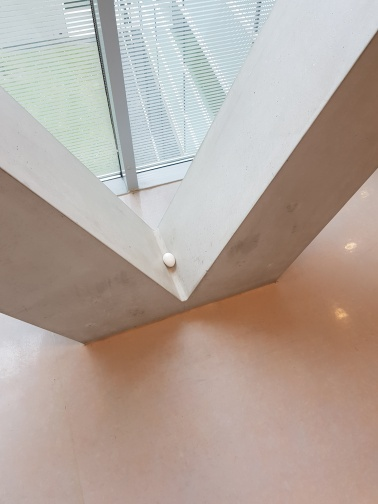egg: (161, 250, 179, 268)
